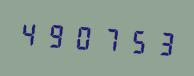five: (122, 21, 147, 59)
four: (17, 14, 42, 52)
nine: (43, 16, 68, 53)
seven: (96, 19, 121, 57)
three: (148, 23, 173, 61)
zero: (70, 18, 95, 55)
